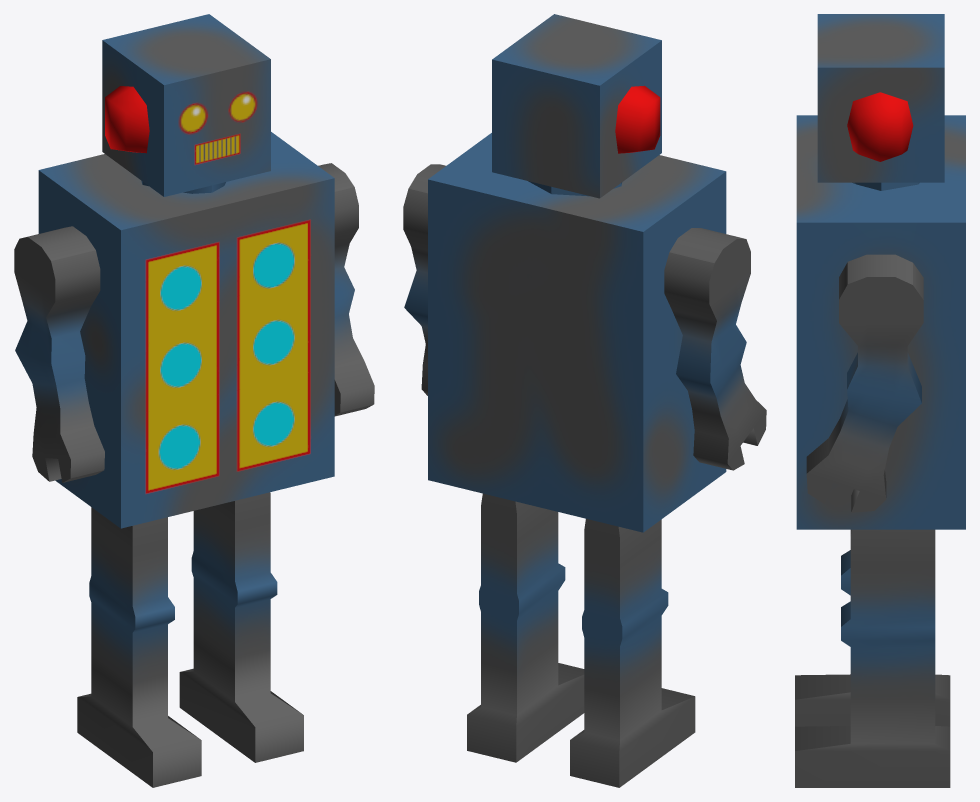
File: ToyRobot.fbx
3 views of the same model, side by side, from view 1: azimuth 30°, elevation 25°; view 2: azimuth 150°, elevation 25°; view 3: azimuth 270°, elevation 25° (orthographic). The views are drawn at different scales.
Visible parts, largest first — view 1: pCube10; view 2: pCube10; view 3: pCube10.
Boxes of the visible parts, x1,y1,x2,y2 form: pCube10: (14,14,374,787); pCube10: (403,14,766,787); pCube10: (795,14,965,787).
Bounding box in the file's own units: 4.26 × 9.24 × 2.02.
Materials: 1 (1 with a texture image).
